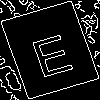E: (25, 25, 76, 78)
